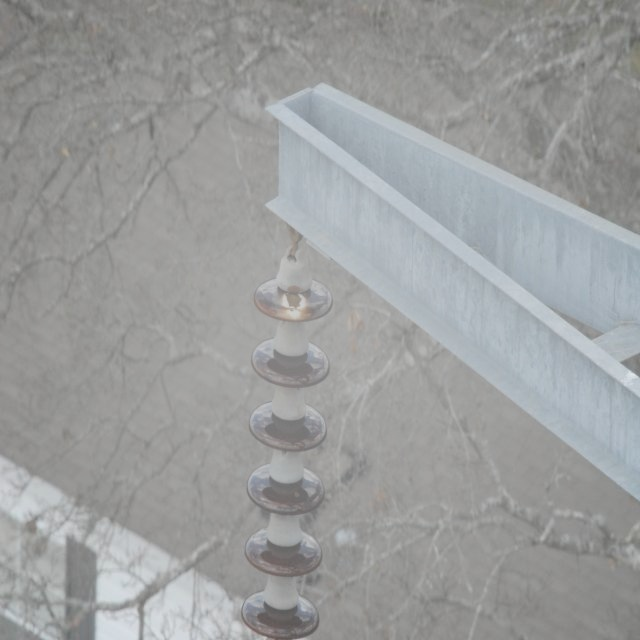insulator: (240, 278, 333, 638)
